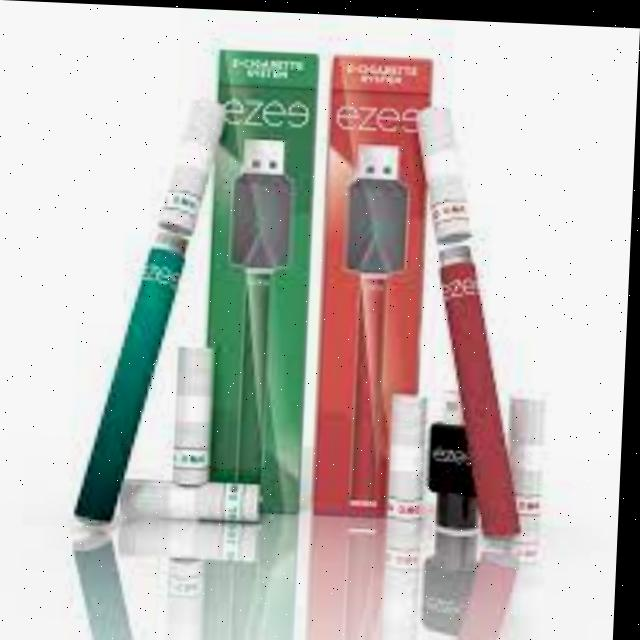vape: (78, 94, 229, 533), (400, 99, 541, 538)
